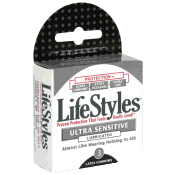grozi_91: (33, 2, 142, 173)
